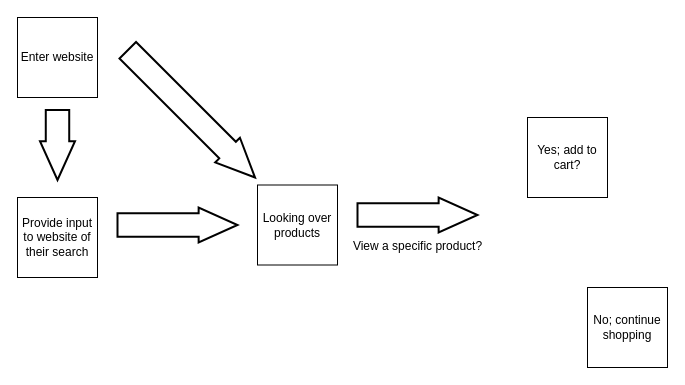
The diagram is 685 pixels wide and 385 high, and some of its shapes have lost their labels. Here are the shapes that lost their labels. From the top down, the centre of each, then its label:
the point at 191,113: Explore
the point at 57,144: Search
